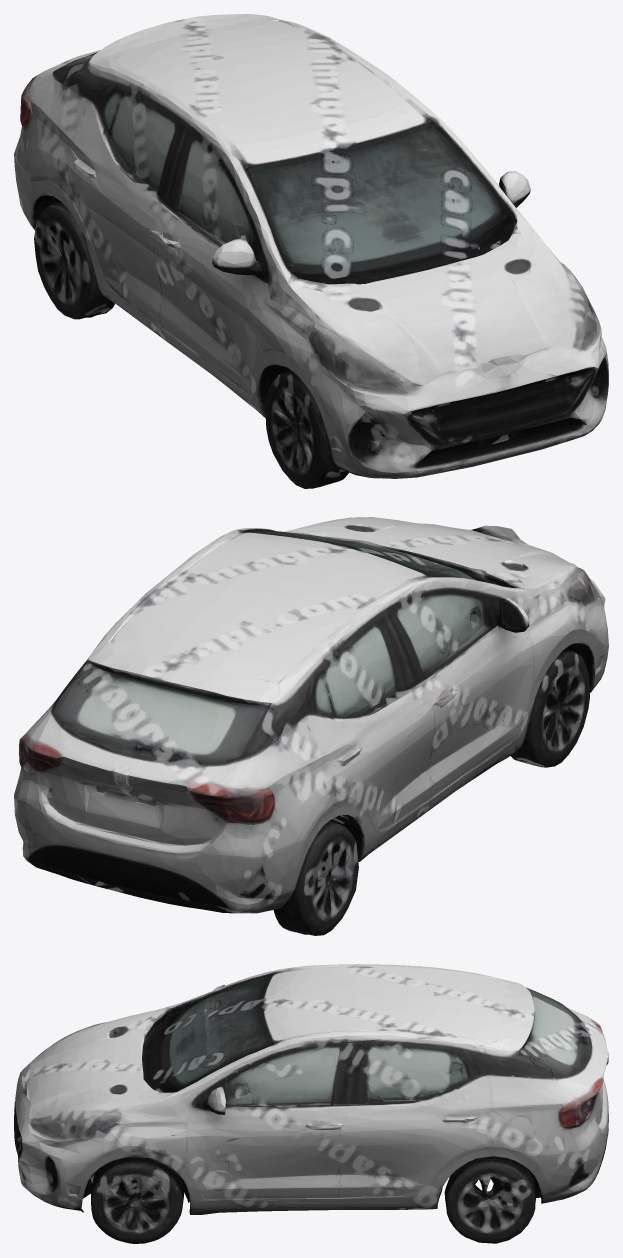
The model's file is hyundai_aura_al3-2023-now.glb.
3 renders of one model, top to bottom at view 1: azimuth 30°, elevation 25°; view 2: azimuth 150°, elevation 25°; view 3: azimuth 270°, elevation 25°, orthographic. The views are drawn at different scales.
Parts seen in each view (by area): view 1: world; view 2: world; view 3: world.
Boxes of the visible parts, left/top/right/bottom form: world: left=14, top=14, right=608, bottom=488; world: left=14, top=517, right=608, bottom=935; world: left=14, top=964, right=608, bottom=1243.
Size of the model in its own units: 0.4696 by 0.3668 by 0.9995.
Materials: 1 (1 with a texture image).
